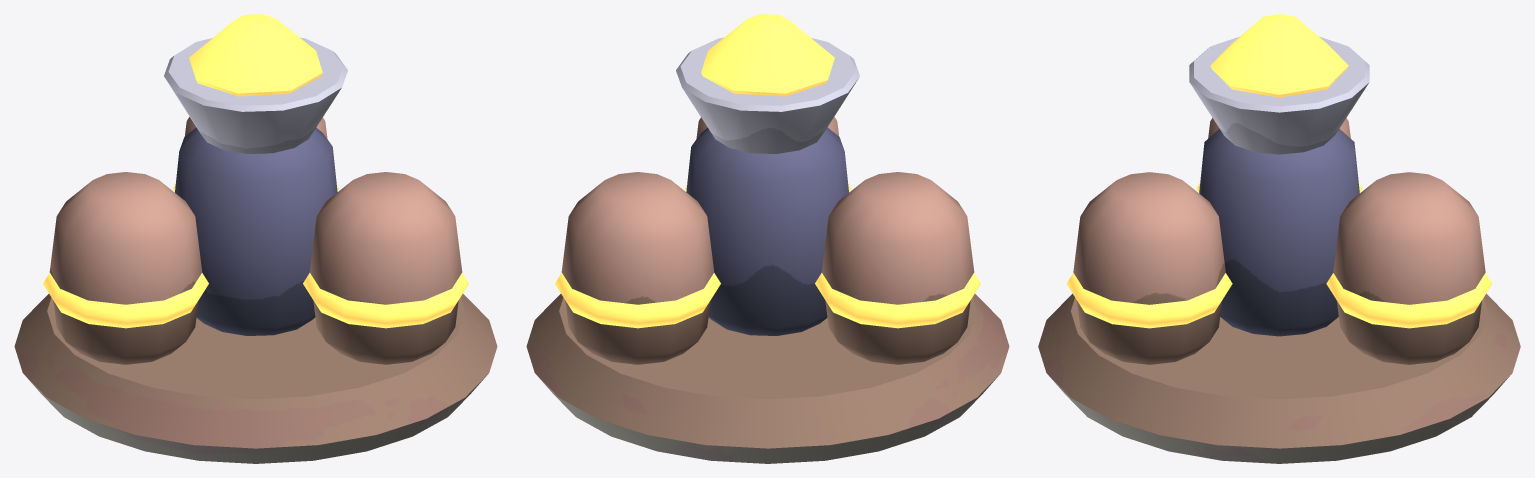
The model's file is R4D_BurnTrap.glb.
3 views of the same model, side by side, from view 1: azimuth 30°, elevation 25°; view 2: azimuth 150°, elevation 25°; view 3: azimuth 270°, elevation 25° (orthographic).
Parts seen in each view (by area): view 1: R4D_BurnTrap_Body, R4D_BurnTrap_Flame; view 2: R4D_BurnTrap_Body, R4D_BurnTrap_Flame; view 3: R4D_BurnTrap_Body, R4D_BurnTrap_Flame.
Part boxes in pixels (x1,y1,x2,y2): R4D_BurnTrap_Body: (14,37,497,463); R4D_BurnTrap_Flame: (189,14,322,96); R4D_BurnTrap_Body: (526,37,1009,463); R4D_BurnTrap_Flame: (701,14,834,96); R4D_BurnTrap_Body: (1038,36,1520,463); R4D_BurnTrap_Flame: (1210,14,1348,97).
Size of the model in its own units: 0.37 by 0.2966 by 0.37.
Materials: 5 (4 with a texture image).
